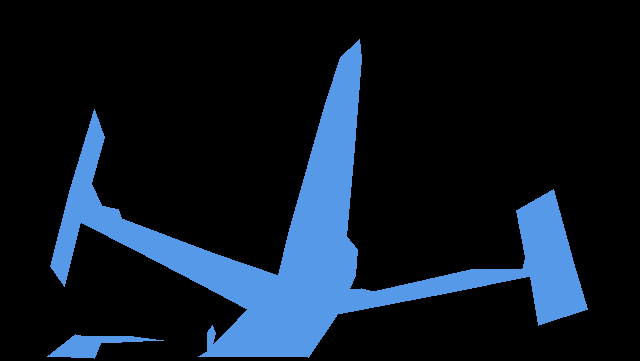Airplane: (47, 39, 588, 358)
